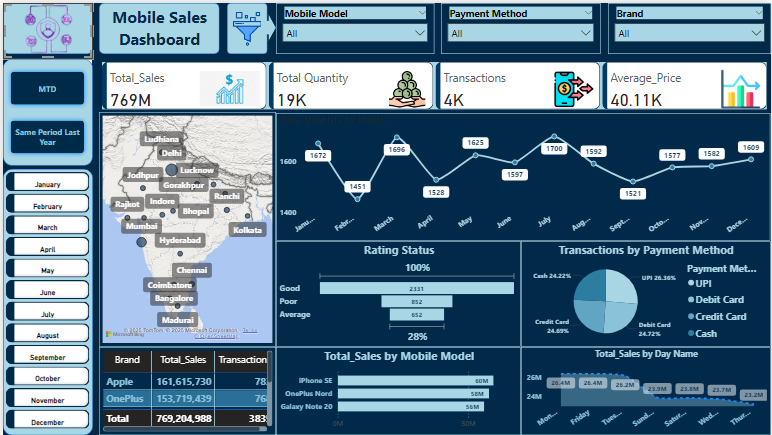

Layout of this report page (visuals, bound fields, positions):
{"tool":"powerbi","page":{"name":"Dashboard","canvas":[1280,720],"ordinal":0},"visuals":[{"type":"shape","box":[0,0,149.9,85.2],"z":0},{"type":"image","box":[0,0,149.9,92.6],"z":1000},{"type":"shape","box":[0,93.3,150,178.3],"z":2000},{"type":"shape","box":[0,276.2,149.9,443.8],"z":3000},{"type":"advancedSlicerVisual","fields":{"Values":["Custom_Calender.Date.Variation.Date Hierarchy.Month"]},"box":[0,276.2,149.9,443.8],"z":4000},{"type":"cardVisual","fields":{"Data":["Sales_Data.Total_Sales","Sales_Data.Total Quantity","Sales_Data.Transactions","Sales_Data.Average_Price"]},"box":[160.2,92.6,1119.7,89.6],"z":5000},{"type":"slicer","fields":{"Values":["Sales_Data.Mobile Model"]},"box":[455.5,0,264.5,85.2],"z":6000},{"type":"slicer","fields":{"Values":["Sales_Data.Payment Method"]},"box":[730.3,0,266,85.2],"z":7000},{"type":"slicer","fields":{"Values":["Sales_Data.Brand"]},"box":[1008,0,271.8,85.2],"z":8000},{"type":"shape","box":[373.2,0,67.6,85.2],"z":9000},{"type":"image","box":[373.2,0,67.6,85.2],"z":10000},{"type":"shape","box":[430.5,19.1,25,45.6],"z":11000},{"type":"shape","box":[160.2,0,201.3,85.2],"z":12000},{"type":"textbox","box":[160.2,0,201.3,85.2],"z":13000},{"type":"map","fields":{"Category":["Sales_Data.City"],"Size":["Sales_Data.Total_Sales"]},"box":[160.2,182.2,295.3,390.9],"z":14000},{"type":"lineChart","fields":{"Y":["Sales_Data.Total Quantity"],"Category":["Custom_Calender.Date.Variation.Date Hierarchy.Month"]},"box":[455.5,183.7,824.3,213.1],"z":15000},{"type":"funnel","title":"Rating Status","fields":{"Y":["CountNonNull(Sales_Data.Customer Age)"],"Category":["Sales_Data.Rating Status"]},"box":[455.5,396.7,408.5,176.3],"z":16000},{"type":"pieChart","title":"Transactions by Payment Method","fields":{"Category":["Sales_Data.Payment Method"],"Y":["Sales_Data.Transactions"]},"box":[864,396.7,415.8,176.3],"z":17000},{"type":"clusteredBarChart","fields":{"Y":["Sales_Data.Total_Sales"],"Category":["Sales_Data.Mobile Model"]},"box":[455.5,573.1,408.5,146.9],"z":18000},{"type":"areaChart","fields":{"Y":["Sales_Data.Total_Sales"],"Category":["Custom_Calender.Day Name"]},"box":[864,573.1,415.8,146.9],"z":19000},{"type":"tableEx","fields":{"Values":["Sales_Data.Brand","Sales_Data.Total_Sales","Sales_Data.Transactions"]},"box":[160.2,573.1,295.3,146.9],"z":20000},{"type":"pageNavigator","box":[5,106.7,138.3,153.3],"z":20001}]}

Visuals, with their boxes in screenshot pixels (x1, y1, x2, y2), scaled from the page's 1280x720 canvas onto the 772x435 screenshot:
shape: 0:0:90:51
image: 0:0:90:56
shape: 0:56:90:164
shape: 0:167:90:434
advancedSlicerVisual - Custom_Calender.Date.Variation.Date Hierarchy.Month: 0:167:90:434
cardVisual - Sales_Data.Total_Sales x Sales_Data.Total Quantity: 97:56:771:110
slicer - Sales_Data.Mobile Model: 275:0:434:51
slicer - Sales_Data.Payment Method: 440:0:601:51
slicer - Sales_Data.Brand: 608:0:771:51
shape: 225:0:266:51
image: 225:0:266:51
shape: 260:12:275:39
shape: 97:0:218:51
textbox: 97:0:218:51
map - Sales_Data.City x Sales_Data.Total_Sales: 97:110:275:346
lineChart - Sales_Data.Total Quantity x Custom_Calender.Date.Variation.Date Hierarchy.Month: 275:111:771:240
"Rating Status" funnel: 275:240:521:346
"Transactions by Payment Method" pieChart: 521:240:771:346
clusteredBarChart - Sales_Data.Total_Sales x Sales_Data.Mobile Model: 275:346:521:434
areaChart - Sales_Data.Total_Sales x Custom_Calender.Day Name: 521:346:771:434
tableEx - Sales_Data.Brand x Sales_Data.Total_Sales: 97:346:275:434
pageNavigator: 3:64:86:157
